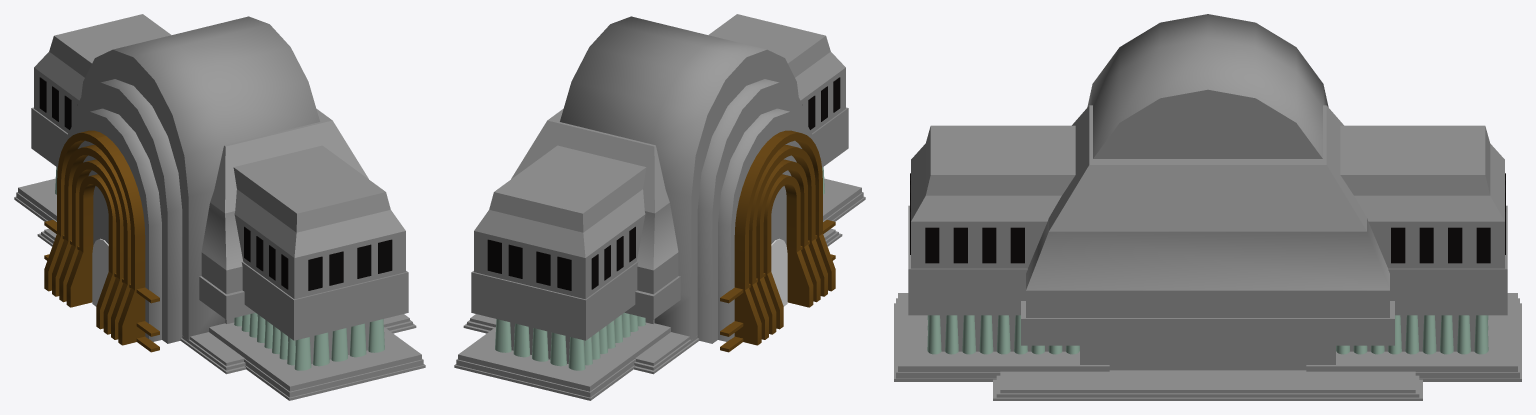
File: Build02.fbx
3 views of the same model, side by side, from view 1: azimuth 30°, elevation 25°; view 2: azimuth 150°, elevation 25°; view 3: azimuth 270°, elevation 25° (orthographic). The views are drawn at different scales.
Parts seen in each view (by area): view 1: Pillar L R.001, TopRound, Gold, GreekBlock.004, Window, Door; view 2: Pillar L R.001, TopRound, Gold, GreekBlock.004, Window, Door; view 3: GreekBlock.004, Pillar L R.001, TopRound, Window.
Part boxes in pixels (box(x1,y1,x2,y2)): Pillar L R.001: box(14, 14, 425, 400); TopRound: box(66, 16, 319, 343); Gold: box(44, 130, 159, 352); GreekBlock.004: box(37, 109, 416, 374); Window: box(39, 77, 392, 290); Door: box(92, 238, 108, 306); Pillar L R.001: box(454, 14, 865, 400); TopRound: box(560, 16, 813, 343); Gold: box(720, 130, 835, 352); GreekBlock.004: box(463, 109, 842, 374); Window: box(487, 77, 840, 290); Door: box(771, 238, 787, 306); GreekBlock.004: box(993, 105, 1422, 400); Pillar L R.001: box(894, 125, 1521, 381); TopRound: box(1087, 14, 1328, 158); Window: box(910, 173, 1505, 263).
Size of the model in its own units: 1515 by 3027 by 1502.
